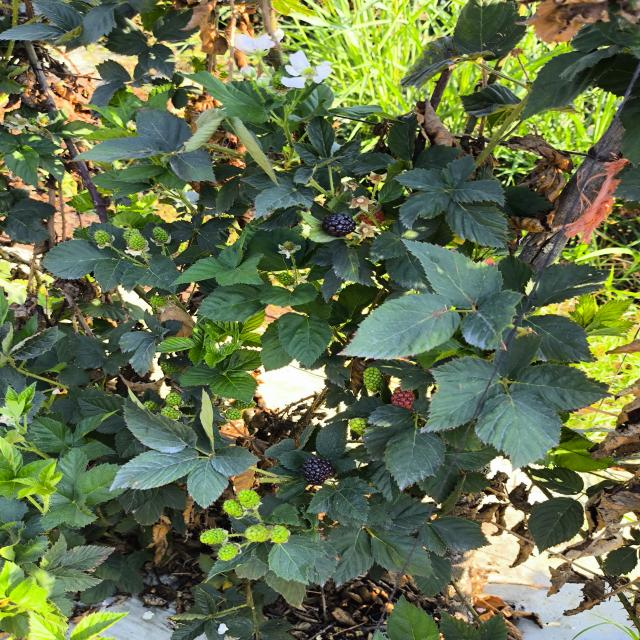boton: (240, 66, 257, 79), (256, 76, 269, 88)
flor: (281, 51, 331, 89), (234, 33, 275, 56)
maduro: (302, 456, 335, 484), (322, 213, 355, 237)
naranja: (391, 388, 415, 410)
verde: (125, 232, 149, 256), (363, 367, 383, 392), (244, 525, 269, 542), (200, 529, 228, 544), (93, 230, 115, 249), (238, 490, 260, 509), (222, 499, 243, 518), (218, 543, 240, 561), (152, 226, 171, 246), (270, 525, 290, 543), (349, 418, 367, 435), (275, 273, 295, 286), (160, 406, 180, 419), (164, 393, 182, 407), (232, 400, 255, 410), (225, 408, 242, 421), (150, 295, 167, 307), (144, 400, 158, 411)
